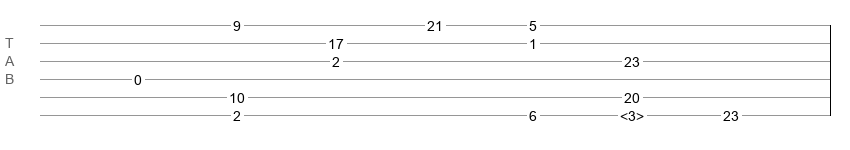0: (134, 72, 142, 82)
1: (529, 36, 537, 46)
10: (229, 90, 245, 100)
17: (328, 36, 344, 46)
2: (233, 108, 241, 118), (332, 54, 340, 64)
20: (624, 90, 640, 100)
21: (427, 18, 443, 28)
23: (624, 54, 640, 64), (723, 108, 739, 118)
5: (529, 18, 537, 28)
6: (529, 108, 537, 118)
9: (233, 18, 241, 28)
harmonic: (620, 108, 644, 118)
